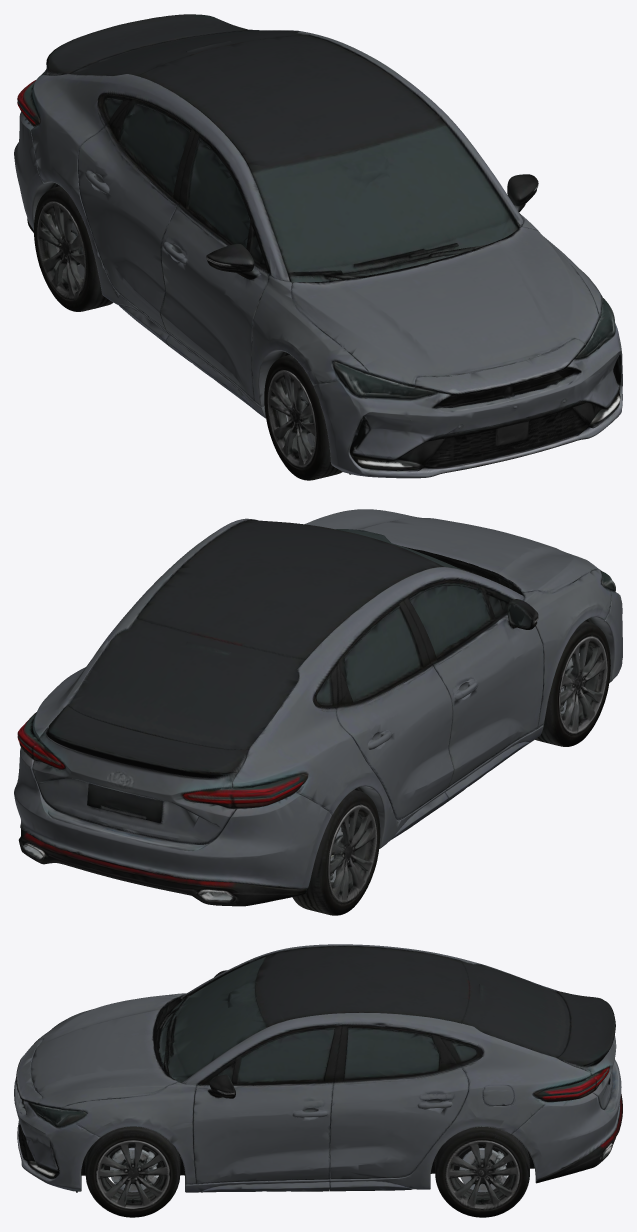
File: car_hatch.glb
3 renders of one model, top to bottom at view 1: azimuth 30°, elevation 25°; view 2: azimuth 150°, elevation 25°; view 3: azimuth 270°, elevation 25°, orthographic. The views are drawn at different scales.
Visible parts, largest first — view 1: tripo_node_8ab59725-be6d-47f6-b91d-43924e323fd1; view 2: tripo_node_8ab59725-be6d-47f6-b91d-43924e323fd1; view 3: tripo_node_8ab59725-be6d-47f6-b91d-43924e323fd1.
Part boxes in pixels (x1,y1,x2,y2): tripo_node_8ab59725-be6d-47f6-b91d-43924e323fd1: (14,14,622,480); tripo_node_8ab59725-be6d-47f6-b91d-43924e323fd1: (14,509,622,915); tripo_node_8ab59725-be6d-47f6-b91d-43924e323fd1: (14,944,622,1217).
Size of the model in its own units: 1.92 by 1.4 by 4.06.
1 material, 1 textured.
